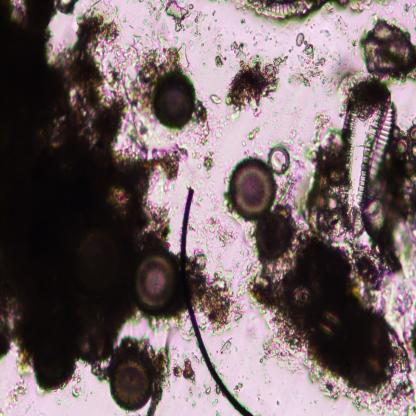Background material: (0, 0, 152, 401), (253, 218, 416, 416), (303, 111, 346, 243), (371, 153, 416, 278), (184, 247, 245, 333), (225, 42, 288, 122), (362, 19, 416, 87), (228, 155, 276, 219), (135, 28, 190, 79), (288, 32, 332, 91), (190, 101, 216, 184), (150, 134, 187, 190), (150, 345, 171, 416), (274, 171, 304, 219), (284, 126, 314, 174), (156, 0, 193, 34), (316, 1, 393, 16), (118, 334, 159, 360), (171, 347, 199, 384), (193, 12, 209, 48), (214, 33, 226, 71), (243, 128, 264, 146), (216, 116, 226, 153), (399, 0, 416, 21), (349, 35, 359, 60), (202, 379, 212, 398), (234, 382, 244, 397), (210, 93, 222, 105), (256, 389, 264, 405), (214, 386, 221, 397), (188, 386, 194, 398), (212, 398, 219, 407), (263, 32, 269, 42), (191, 400, 197, 409), (240, 18, 246, 25), (276, 399, 280, 406), (185, 396, 189, 402), (254, 41, 258, 46), (216, 410, 219, 416)
Diatom: (333, 93, 393, 234), (135, 251, 180, 317), (152, 71, 198, 129), (110, 356, 152, 410), (254, 211, 292, 265), (238, 0, 316, 20), (267, 146, 292, 173), (396, 135, 409, 156), (316, 193, 328, 212), (405, 162, 416, 179), (220, 339, 232, 353), (410, 127, 416, 143)
